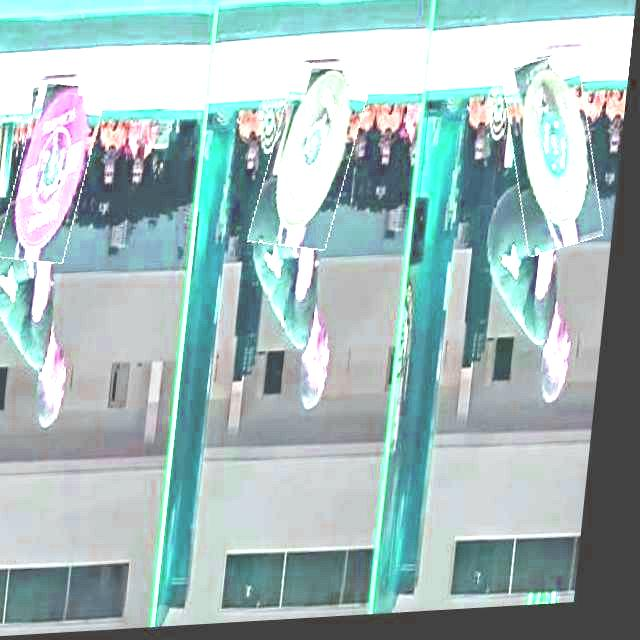barbell: (500, 59, 614, 263), (261, 65, 370, 256), (8, 83, 105, 267)
